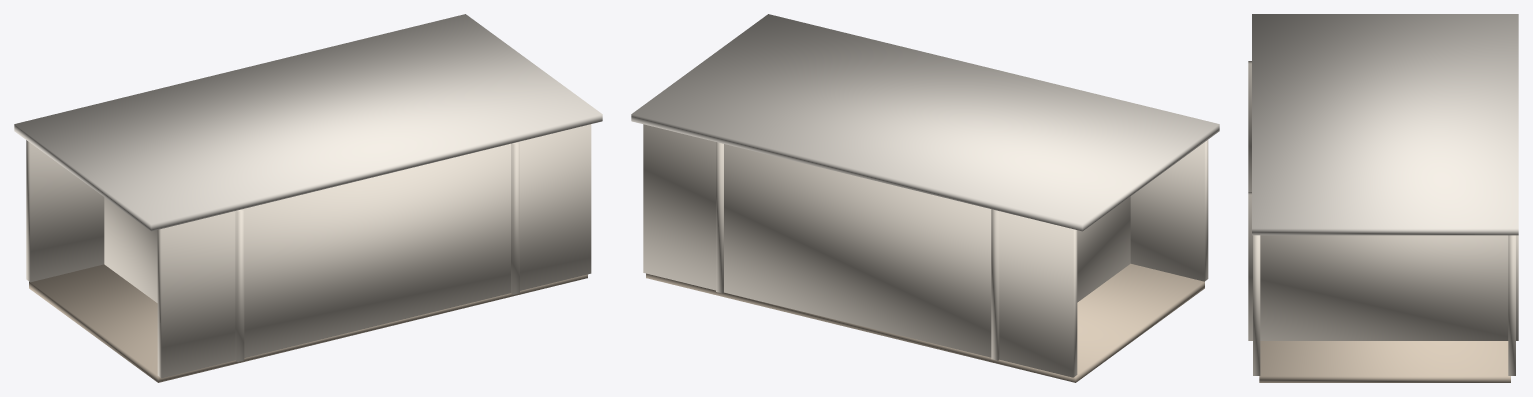
The model's file is studio.glb.
3 renders of one model, left to right at view 1: azimuth 30°, elevation 25°; view 2: azimuth 150°, elevation 25°; view 3: azimuth 270°, elevation 25°, orthographic. The views are drawn at different scales.
Parts seen in each view (by area): view 1: Room_Ceiling, Room_Wall_Back, Room_Floor, Room_Wall_Front, Room_Wall_Left, Room_Wall_Right; view 2: Room_Ceiling, Room_Wall_Front, Room_Floor, Room_Wall_Back, Room_Wall_Left, Room_Wall_Right; view 3: Room_Ceiling, Room_Wall_Right, Room_Floor, Room_Wall_Back, Room_Wall_Front, Room_Wall_Left.
Boxes of the visible parts, <box> form: Room_Ceiling: <box>14,14,602,231</box>; Room_Wall_Back: <box>157,124,591,378</box>; Room_Floor: <box>29,264,587,382</box>; Room_Wall_Front: <box>26,140,104,282</box>; Room_Wall_Left: <box>104,197,244,361</box>; Room_Wall_Right: <box>511,142,519,294</box>; Room_Ceiling: <box>631,14,1219,231</box>; Room_Wall_Front: <box>643,124,1077,377</box>; Room_Floor: <box>646,263,1204,382</box>; Room_Wall_Back: <box>1130,140,1208,281</box>; Room_Wall_Left: <box>991,196,1130,360</box>; Room_Wall_Right: <box>716,142,723,293</box>; Room_Ceiling: <box>1252,14,1518,235</box>; Room_Wall_Right: <box>1248,192,1518,340</box>; Room_Floor: <box>1259,341,1510,382</box>; Room_Wall_Back: <box>1253,235,1260,375</box>; Room_Wall_Front: <box>1508,235,1515,375</box>; Room_Wall_Left: <box>1248,61,1251,191</box>.
Size of the model in its own units: 20.16 by 7 by 10.74.
